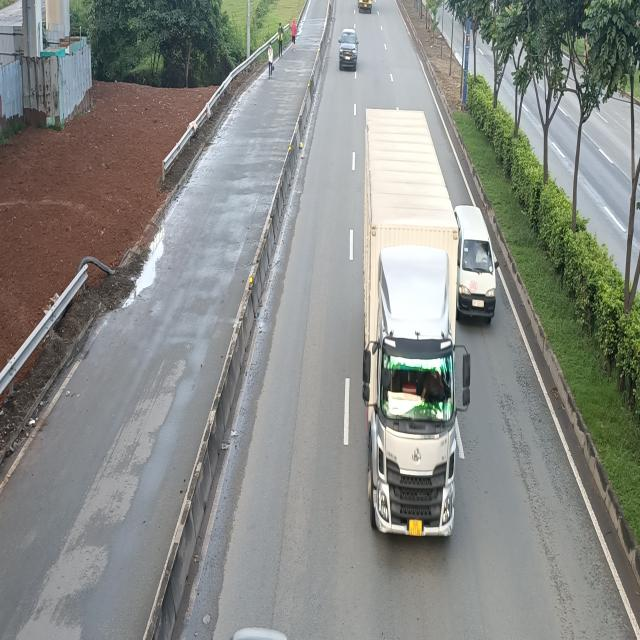car: (340, 29, 359, 71)
container: (365, 109, 473, 543)
van: (456, 208, 499, 328)
